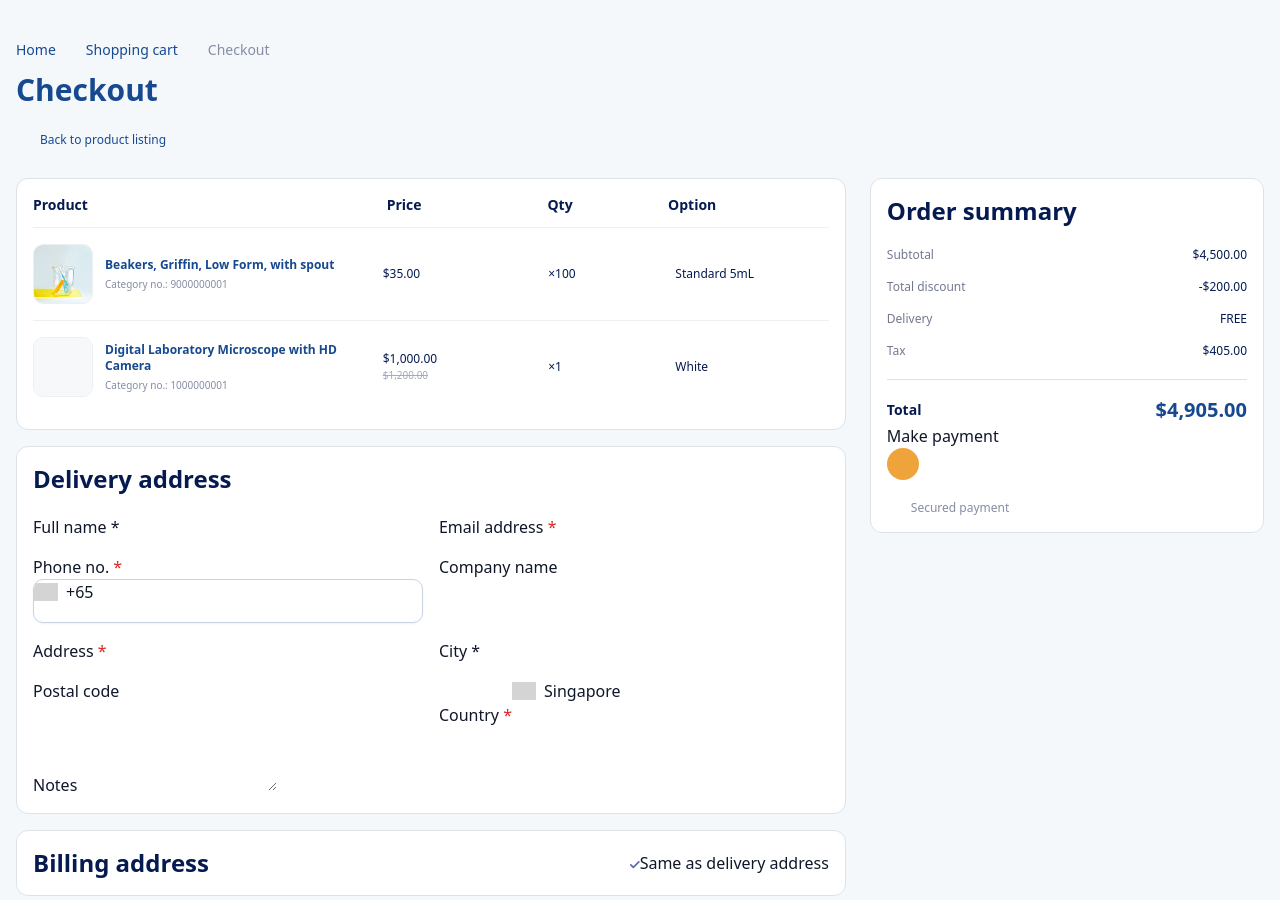
Checkout boundaries from the QA catalogue › CHK-009 validates address before preparing payment
expect the button "Make payment" is shown: met, box [887,424,999,480]
Type "QA Tester" into the field labelled "Full name *" at (235, 527), box [120,515,350,539]
Type "qa@example.test" into the field labelled "Email address *" at (672, 527), box [556,515,788,539]
Type "88009900" into the field labelled "Phone no. *" at (209, 601), box [94,580,324,622]
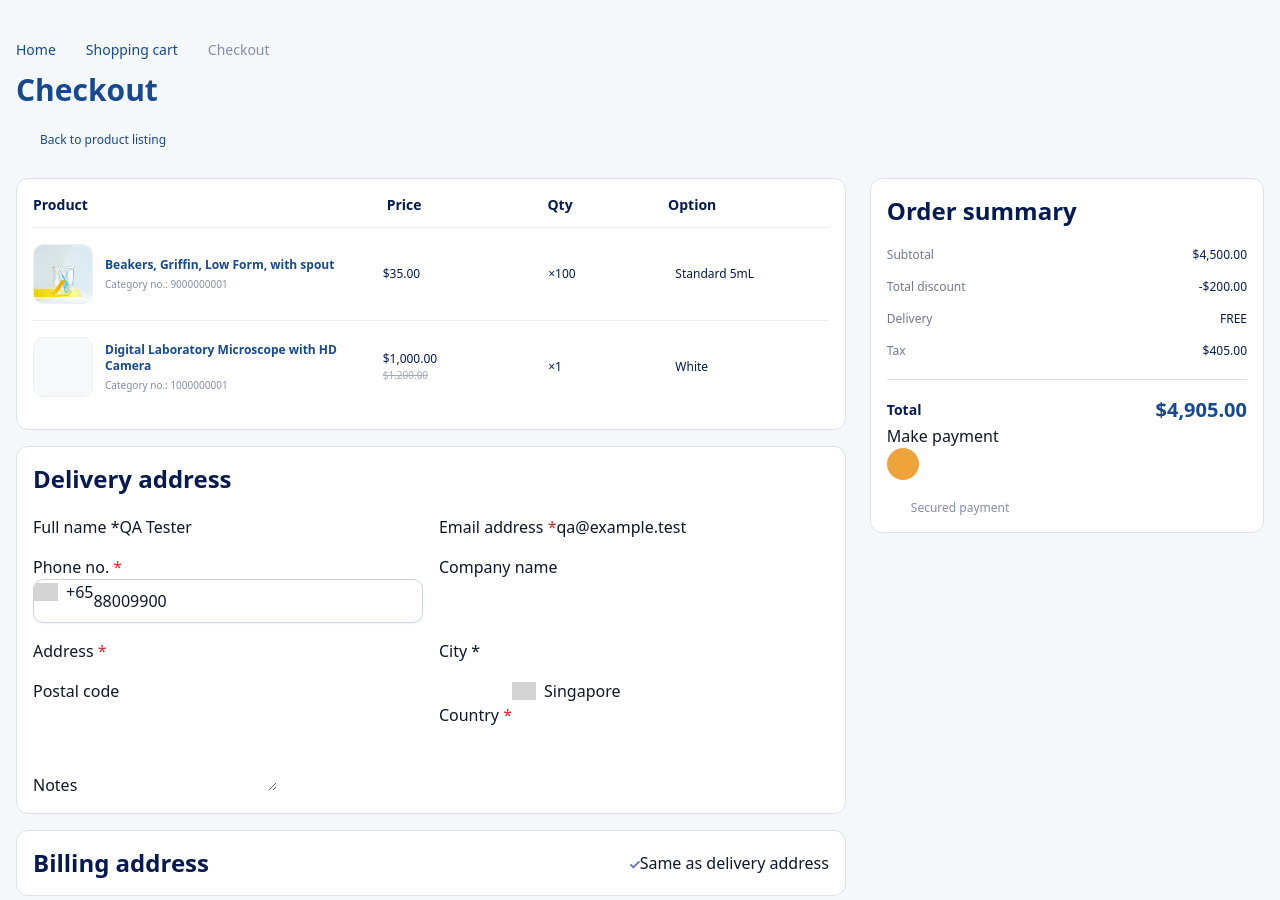
Type "123 Test Street" into the field labelled "Address *" at (222, 651), box [106,639,338,663]
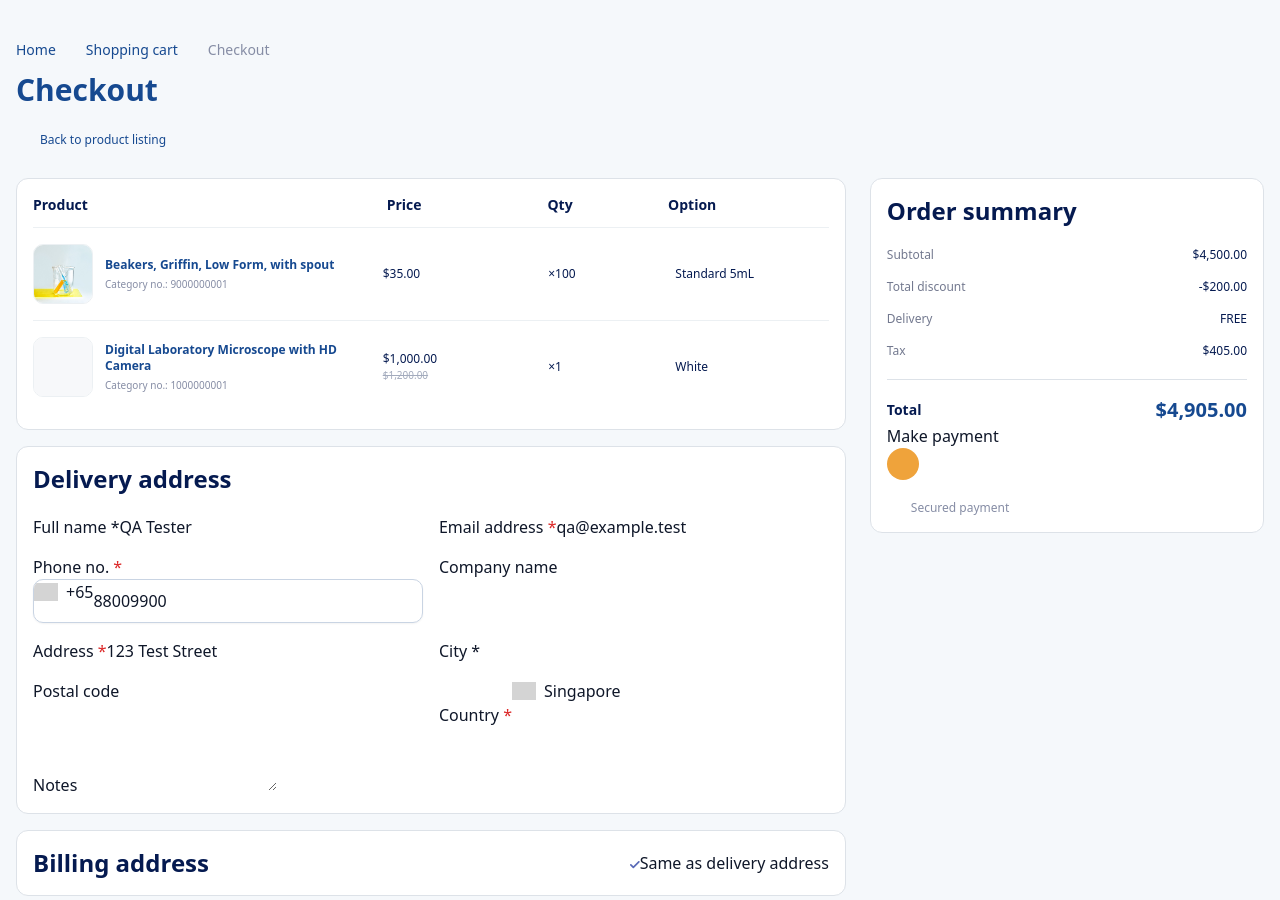
Type "Singapore" into the field labelled "City *" at (596, 651), box [480,639,711,663]
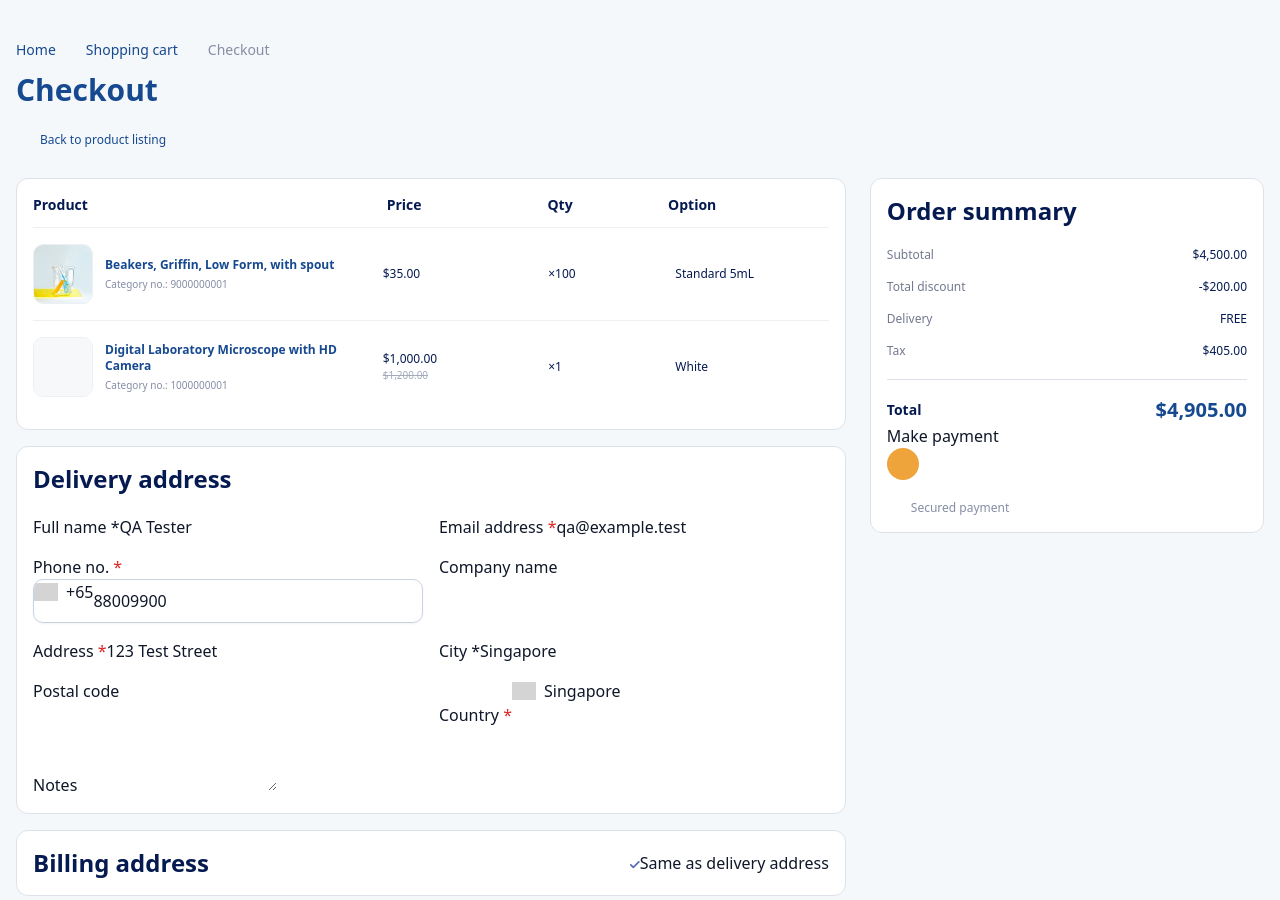
Type "012345" into the field labelled "Postal code" at (235, 691), box [119,679,350,703]
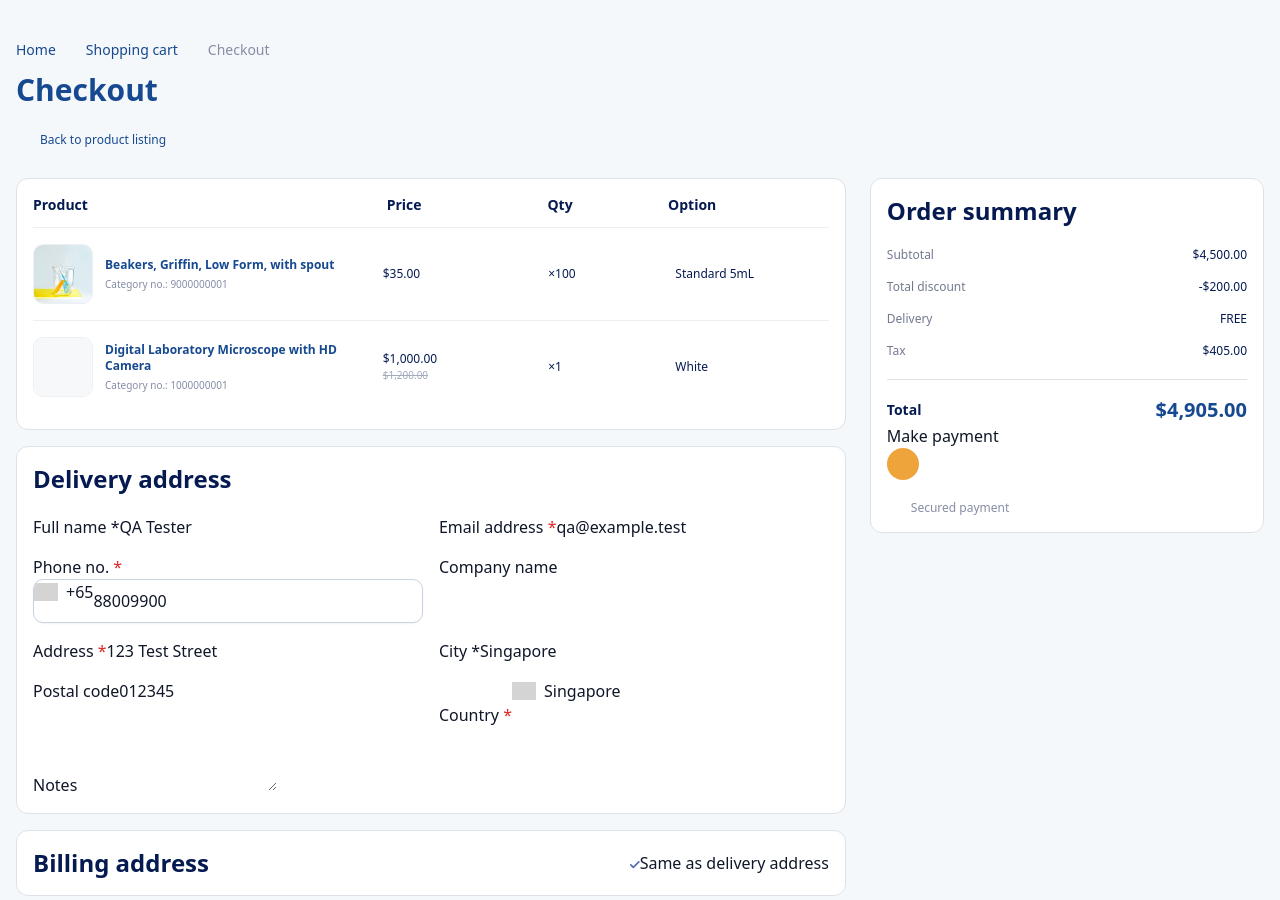
Replace the text in the field labelled "Address *" with "AAAAAAAA" at (222, 651), box [106,639,338,663]
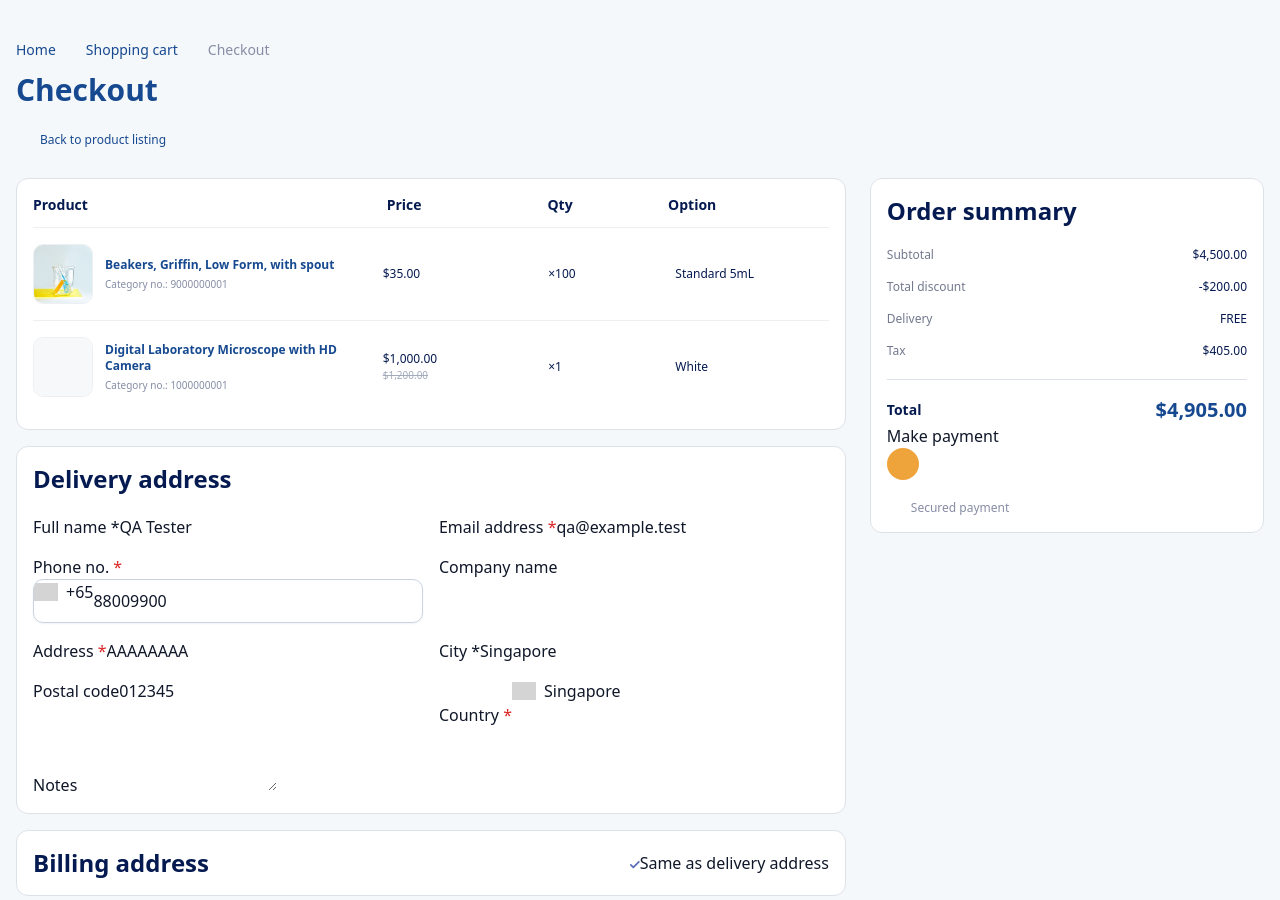
Click the button "Make payment" at (943, 452), box [887,424,999,480]
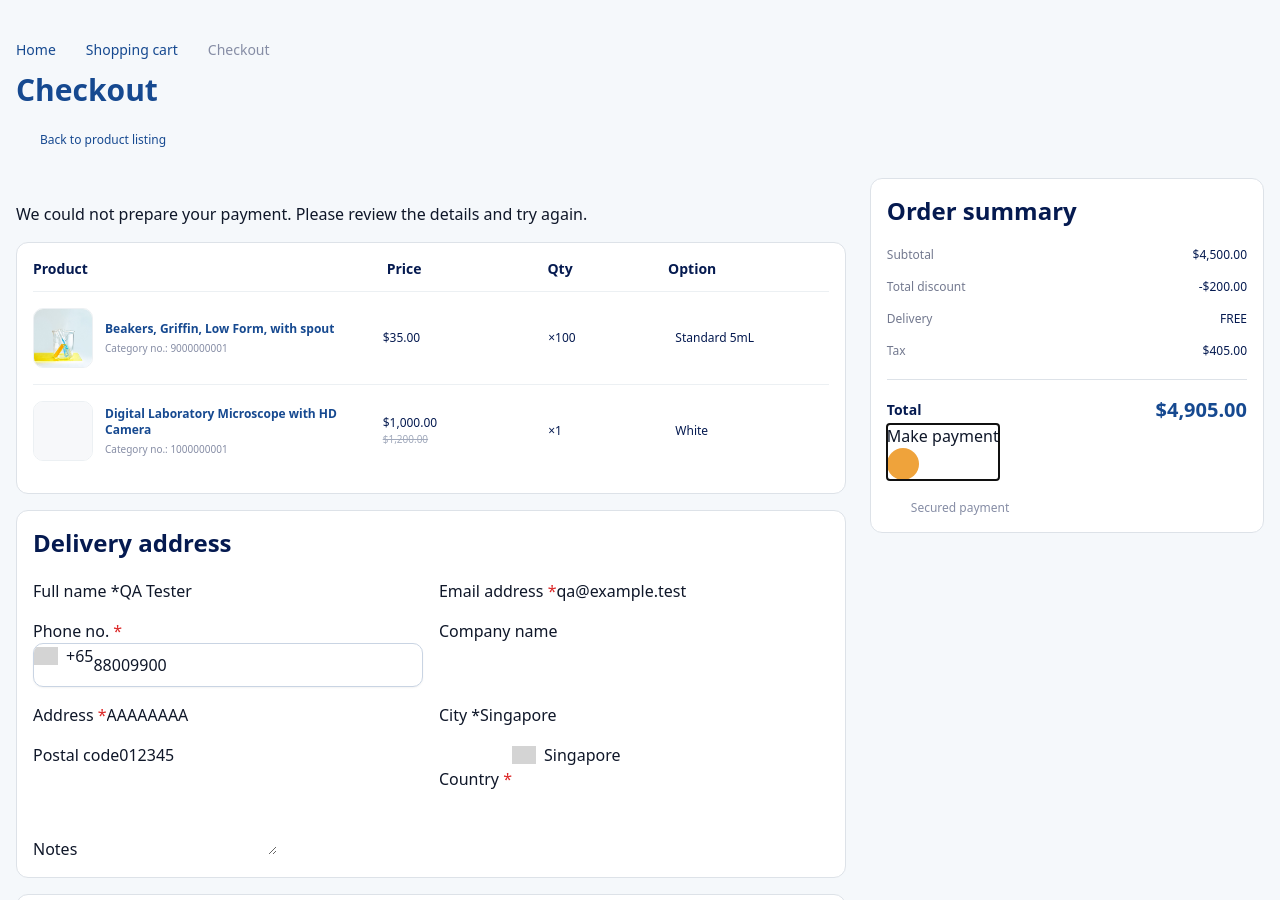
expect the message shows "We could not prepare your payment.": met, box [16,203,587,225]
